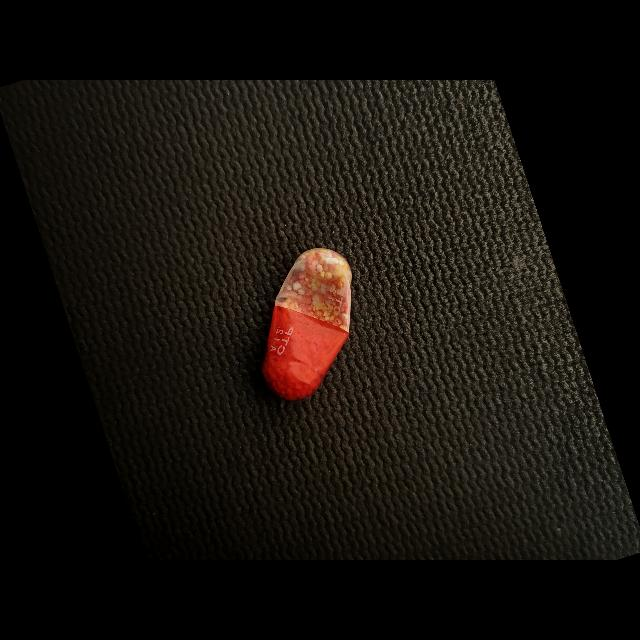Defective Capsule: (262, 248, 352, 400)
